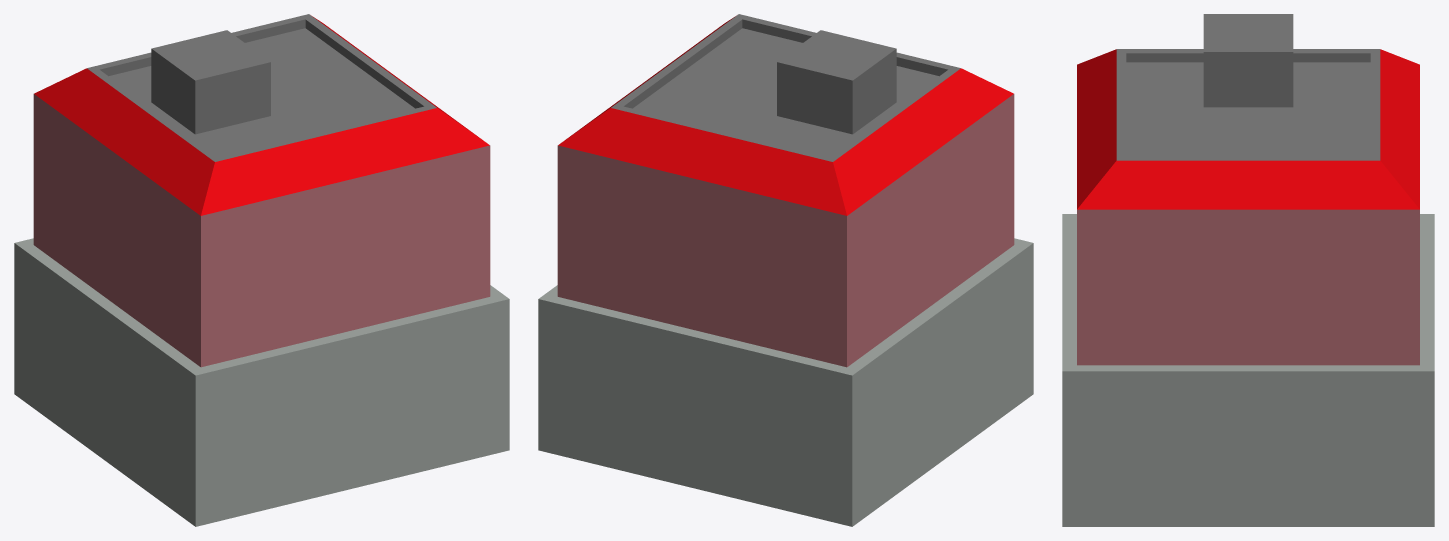
The model's file is Cafe.fbx.
3 renders of one model, left to right at view 1: azimuth 30°, elevation 25°; view 2: azimuth 150°, elevation 25°; view 3: azimuth 270°, elevation 25°, orthographic. The views are drawn at different scales.
Parts seen in each view (by area): view 1: Cafe; view 2: Cafe; view 3: Cafe.
Part boxes in pixels (<box>): Cafe: <box>14,14,509,526</box>; Cafe: <box>538,14,1033,526</box>; Cafe: <box>1062,14,1434,526</box>.
Bounding box in the file's own units: 217 × 251 × 217.
